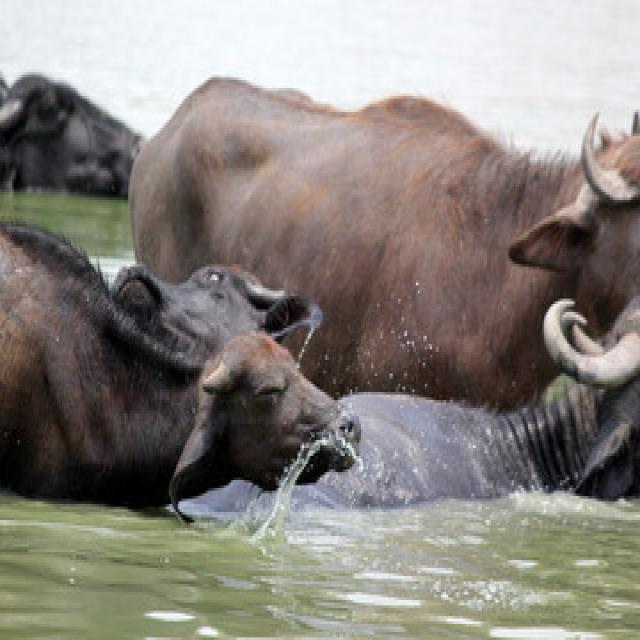Buffalo: (0, 215, 367, 523)
